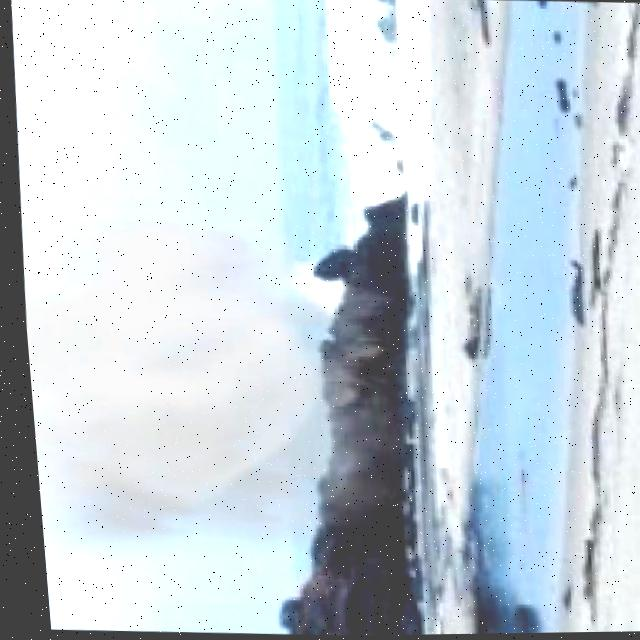Smoke: (16, 176, 441, 578)
